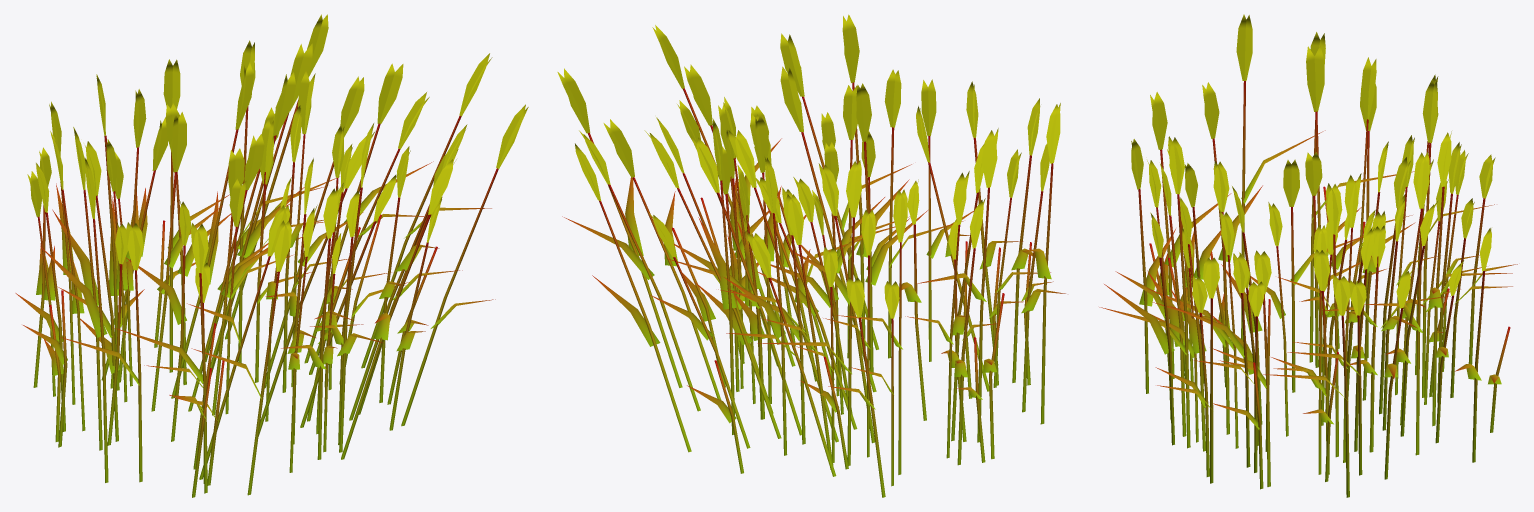
The model's file is reed.glb.
3 views of the same model, side by side, from view 1: azimuth 30°, elevation 25°; view 2: azimuth 150°, elevation 25°; view 3: azimuth 270°, elevation 25° (orthographic).
Parts seen in each view (by area): view 1: v0, v1, v3, v2; view 2: v1, v0, v3, v2; view 3: v0, v1, v3, v2.
Boxes of the visible parts, bbox=[...] form: v0: bbox=[15, 40, 410, 493]; v1: bbox=[101, 14, 528, 479]; v3: bbox=[23, 89, 442, 497]; v2: bbox=[27, 70, 391, 483]; v1: bbox=[557, 25, 989, 476]; v0: bbox=[698, 14, 1065, 465]; v3: bbox=[672, 81, 1053, 497]; v2: bbox=[723, 79, 1050, 486]; v0: bbox=[1099, 14, 1512, 486]; v1: bbox=[1104, 157, 1512, 497]; v3: bbox=[1131, 139, 1517, 489]; v2: bbox=[1115, 57, 1494, 474].
Size of the model in its own units: 14.27 by 9.47 by 11.17.
